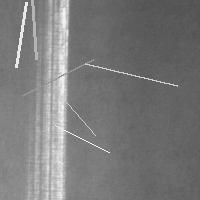scratches: (34, 1, 67, 198), (17, 54, 98, 100), (80, 58, 182, 90), (50, 120, 114, 157), (56, 91, 100, 140), (11, 0, 31, 72), (26, 0, 41, 64)
